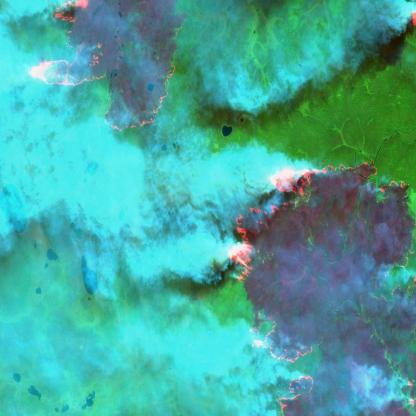fire: (217, 160, 416, 287), (23, 0, 188, 143), (247, 316, 323, 414), (398, 365, 416, 416)
